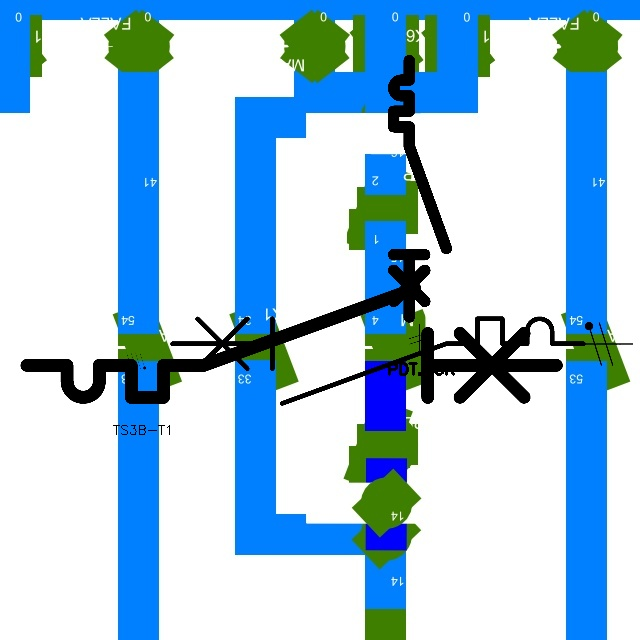interruptor_termomagnetico: (13, 275, 570, 411), (161, 308, 593, 414), (387, 54, 453, 324)
